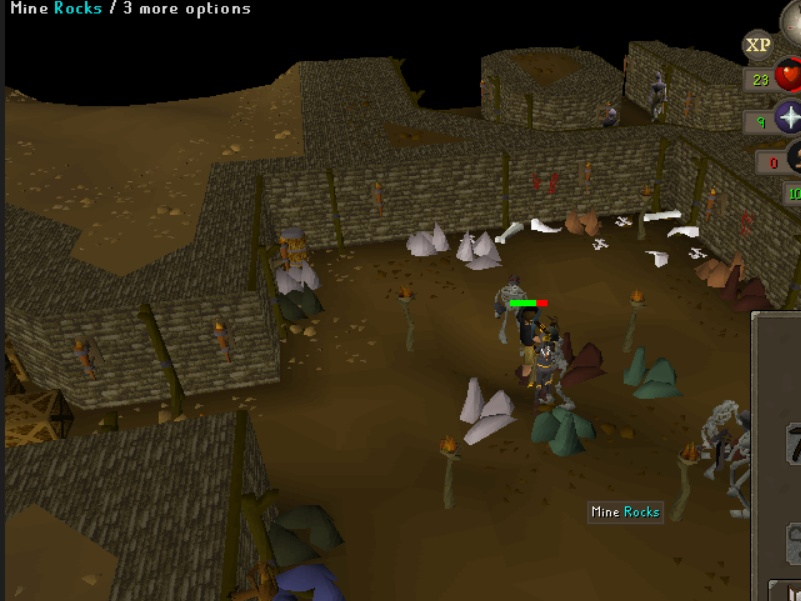adamant: (528, 399, 598, 457), (617, 343, 687, 401)
coal: (266, 501, 354, 572), (273, 279, 328, 330)
copper: (690, 246, 754, 291), (561, 201, 607, 239)
iron: (552, 326, 614, 390), (718, 262, 780, 317)
mithril: (268, 562, 344, 601)
silver: (456, 374, 522, 449), (454, 219, 508, 272), (405, 216, 452, 262)
tin: (276, 255, 328, 294)
